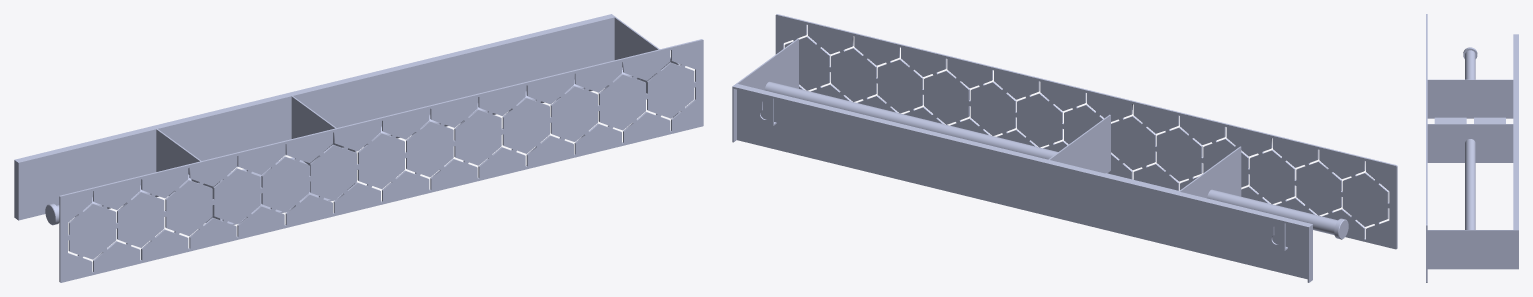
File: bee-trio.2be5ca08de.glb
3 views of the same model, side by side, from view 1: azimuth 30°, elevation 25°; view 2: azimuth 150°, elevation 25°; view 3: azimuth 270°, elevation 25° (orthographic). The views are drawn at different scales.
Parts seen in each view (by area): view 1: NAUO1; view 2: NAUO1; view 3: NAUO1.
Part boxes in pixels (left/top/right/bottom): NAUO1: left=14, top=14, right=703, bottom=282; NAUO1: left=732, top=14, right=1397, bottom=282; NAUO1: left=1426, top=14, right=1518, bottom=282.
Bounding box in the file's own units: 0.7 × 0.09 × 0.13.
